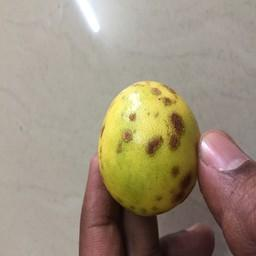Bad_lime: (97, 75, 200, 219)
